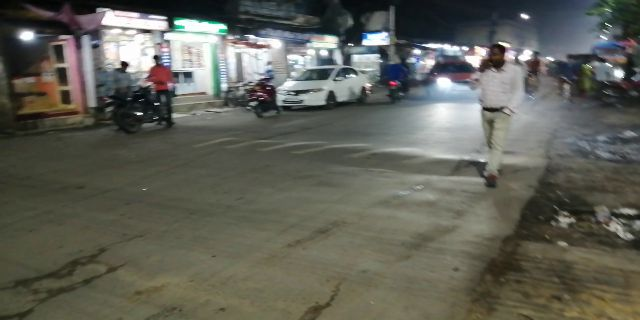Car: (278, 61, 372, 111)
Motorbike: (245, 72, 276, 123)
